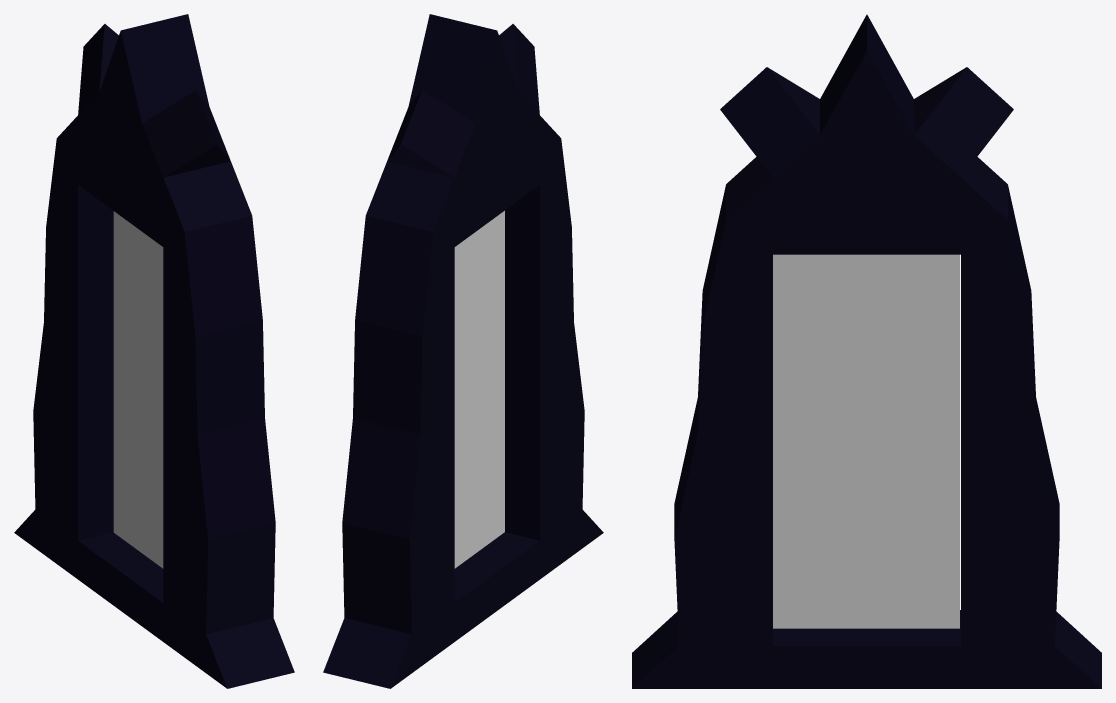
Rendered from Portal.fbx.
3 renders of one model, left to right at view 1: azimuth 30°, elevation 25°; view 2: azimuth 150°, elevation 25°; view 3: azimuth 270°, elevation 25°, orthographic. The views are drawn at different scales.
Visible parts, largest first — view 1: Cube, Portal, Portal2; view 2: Cube, Portal, Portal2; view 3: Cube, Portal, Portal2.
Boxes of the visible parts, box(x1,y1,x2,y2) form: Cube: box(14, 14, 294, 688); Portal: box(113, 250, 163, 568); Portal2: box(113, 211, 163, 457); Cube: box(323, 14, 603, 688); Portal: box(454, 330, 504, 568); Portal2: box(454, 210, 504, 459); Cube: box(632, 14, 1101, 688); Portal: box(773, 254, 959, 628); Portal2: box(773, 312, 959, 628).
Size of the model in its own units: 91.28 by 750 by 500.
